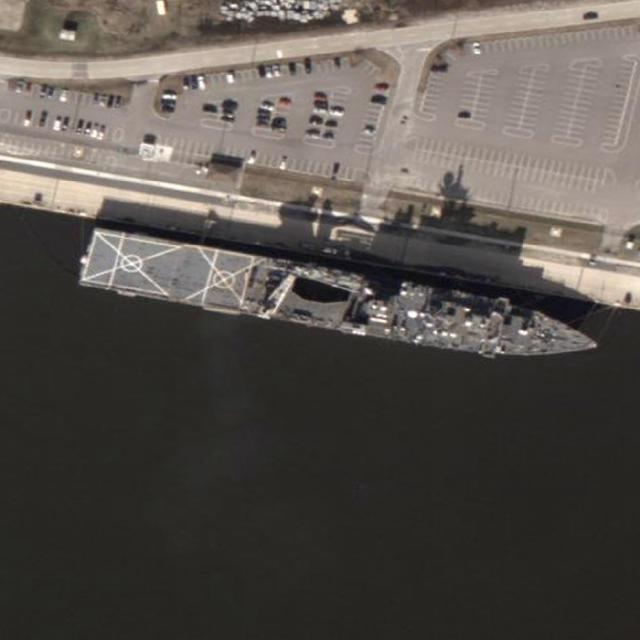Landing: (75, 222, 605, 378)
